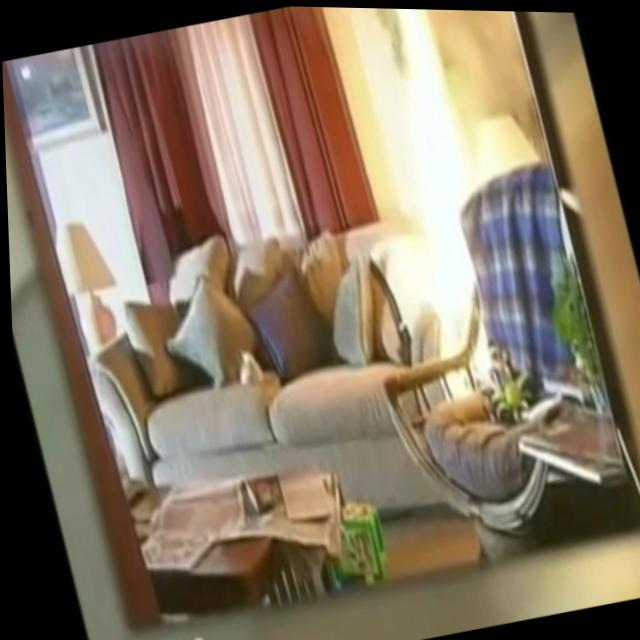fire: (347, 6, 523, 397)
